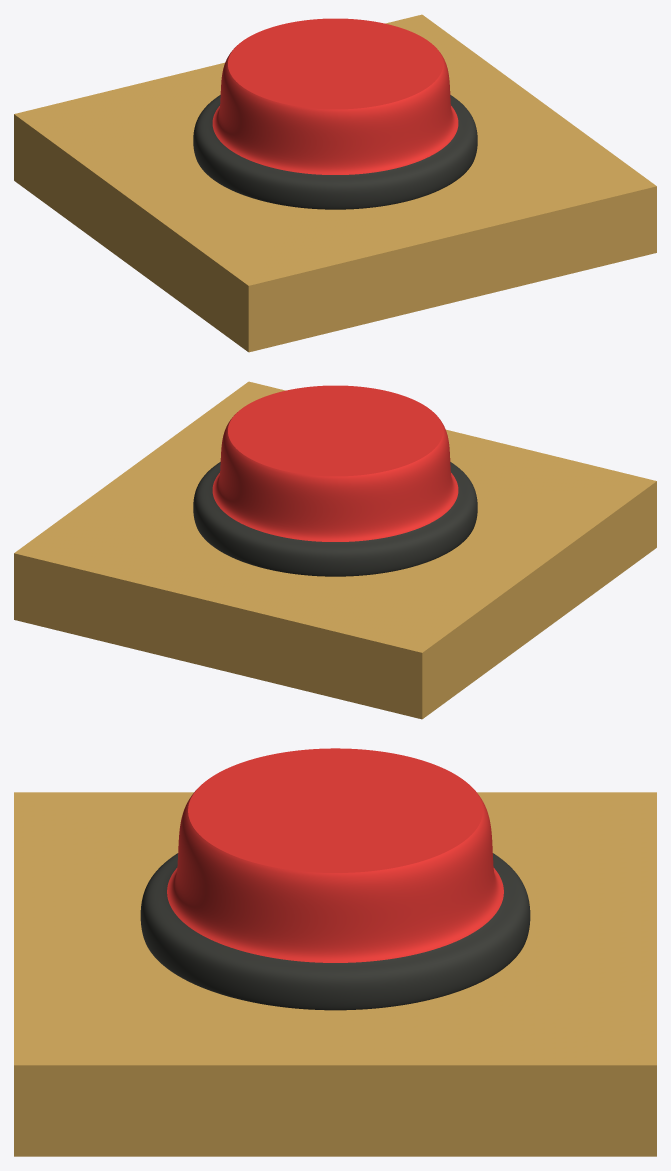
File: dugme.fbx
The picture shows the model from 3 angles, top to bottom: view 1: azimuth 30°, elevation 25°; view 2: azimuth 150°, elevation 25°; view 3: azimuth 270°, elevation 25°; orthographic projection. The views are drawn at different scales.
Parts seen in each view (by area): view 1: Cube, Circle, Circle.001; view 2: Cube, Circle, Circle.001; view 3: Cube, Circle, Circle.001.
Boxes of the visible parts, bbox=[...] form: Cube: bbox=[14, 14, 656, 352]; Circle: bbox=[193, 45, 477, 209]; Circle.001: bbox=[228, 18, 442, 109]; Cube: bbox=[14, 381, 656, 719]; Circle: bbox=[193, 412, 477, 576]; Circle.001: bbox=[228, 385, 442, 476]; Cube: bbox=[14, 792, 656, 1156]; Circle: bbox=[140, 789, 530, 1010]; Circle.001: bbox=[188, 748, 482, 872].
Bounding box in the file's own units: 409 × 146 × 407.
